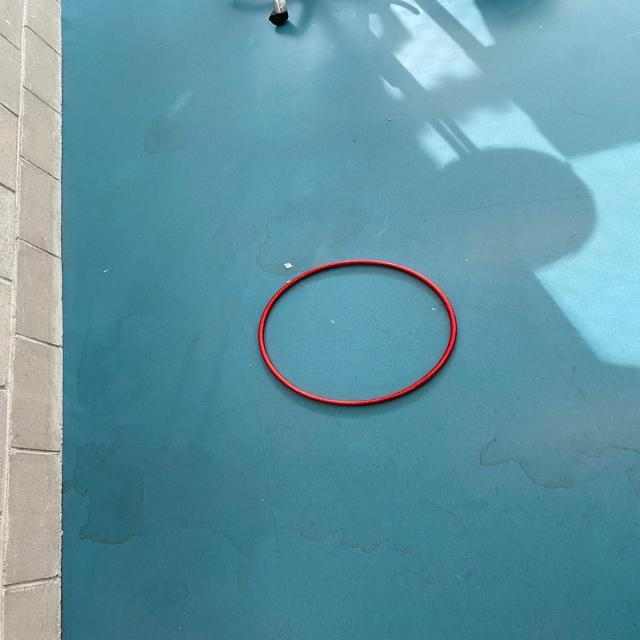Circle: (252, 254, 460, 412)
